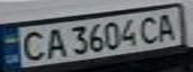0: (103, 18, 124, 51)
3: (66, 22, 90, 55)
4: (118, 16, 142, 47)
6: (87, 20, 109, 53)
A: (151, 10, 181, 43), (42, 25, 69, 60)
C: (15, 28, 48, 62), (136, 12, 163, 45)
